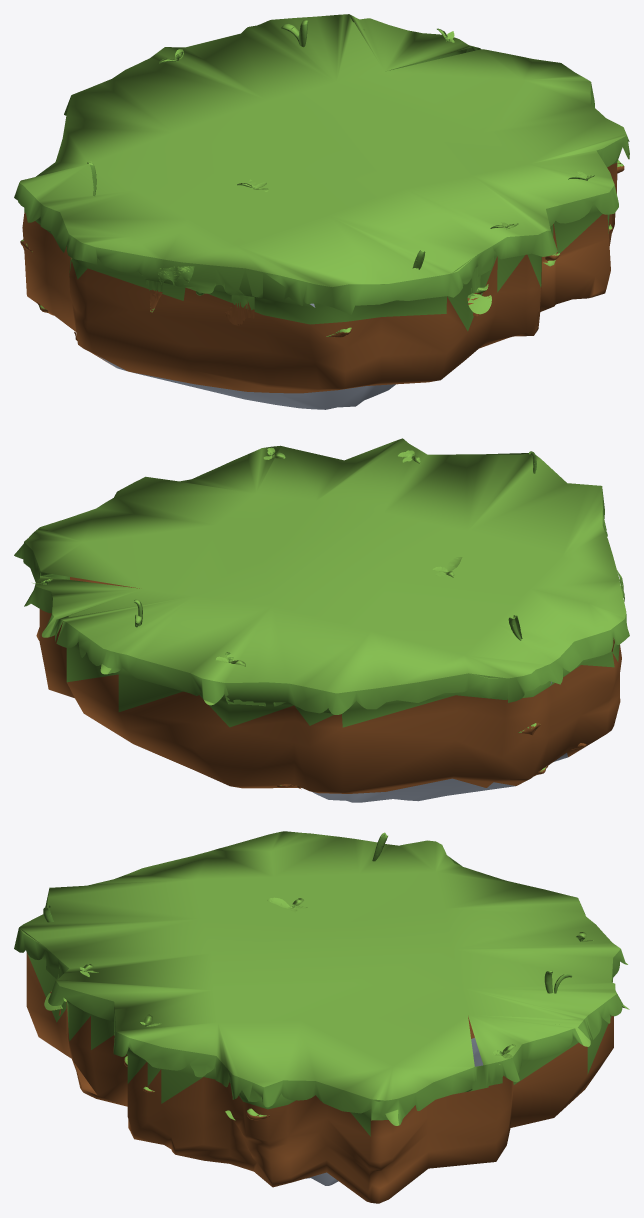
The model's file is SM_bob_map_island_land.glb.
3 renders of one model, top to bottom at view 1: azimuth 30°, elevation 25°; view 2: azimuth 150°, elevation 25°; view 3: azimuth 270°, elevation 25°, orthographic. The views are drawn at different scales.
Visible parts, largest first — view 1: SM_bob_map_island_land; view 2: SM_bob_map_island_land; view 3: SM_bob_map_island_land.
Boxes of the visible parts, bbox=[...] form: SM_bob_map_island_land: bbox=[14, 14, 629, 409]; SM_bob_map_island_land: bbox=[14, 438, 629, 802]; SM_bob_map_island_land: bbox=[14, 831, 629, 1203].
Size of the model in its own units: 11.36 by 4.5 by 10.99.
Materials: 1 (1 with a texture image).
